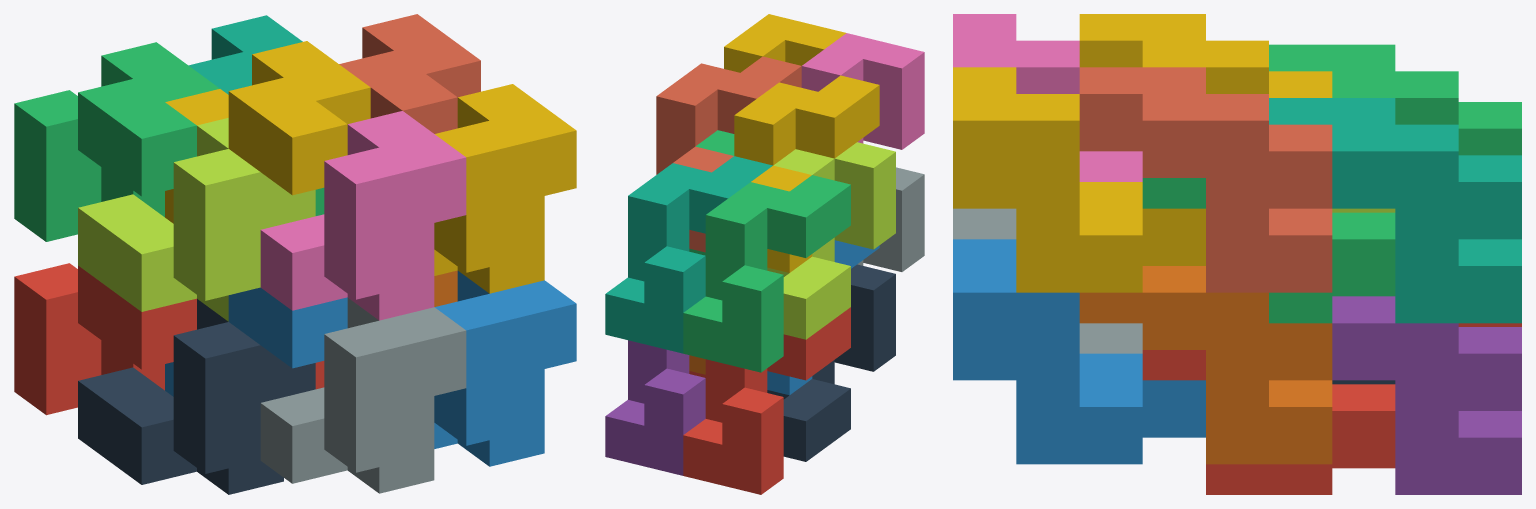
The model's file is tiling.obj.
The picture shows the model from 3 angles, left to right: view 1: azimuth 30°, elevation 25°; view 2: azimuth 150°, elevation 25°; view 3: azimuth 270°, elevation 25°; orthographic projection. The views are drawn at different scales.
Visible parts, largest first — view 1: copy_2_domain_4, copy_2_domain_2, copy_2_domain_1, copy_1_domain_3, copy_2_domain_3, copy_2_domain_8, copy_2_domain_6, copy_1_domain_1, copy_1_domain_4, copy_1_domain_8, copy_1_domain_2, copy_1_domain_7 (+1 smaller); view 2: copy_1_domain_3, copy_1_domain_7, copy_1_domain_1, copy_2_domain_3, copy_1_domain_4, copy_2_domain_1, copy_1_domain_5, copy_1_domain_8, copy_2_domain_4, copy_2_domain_8, copy_2_domain_2, copy_1_domain_2 (+1 smaller); view 3: copy_1_domain_8, copy_2_domain_8, copy_1_domain_7, copy_2_domain_6, copy_1_domain_6, copy_1_domain_5, copy_1_domain_3, copy_1_domain_4, copy_2_domain_5, copy_2_domain_7, copy_2_domain_4, copy_2_domain_2.
Part boxes in pixels (box(x1,y1,x2,y2)): copy_2_domain_4: box(260, 111, 466, 320); copy_2_domain_2: box(260, 298, 466, 493); copy_2_domain_1: box(78, 299, 315, 494); copy_1_domain_3: box(14, 42, 219, 241); copy_2_domain_3: box(78, 118, 315, 321); copy_2_domain_8: box(434, 84, 576, 293); copy_2_domain_6: box(434, 270, 576, 466); copy_1_domain_1: box(14, 263, 196, 415); copy_1_domain_4: box(165, 41, 370, 223); copy_1_domain_8: box(339, 14, 480, 133); copy_1_domain_2: box(165, 287, 347, 396); copy_1_domain_7: box(188, 15, 302, 94); copy_1_domain_3: box(683, 175, 850, 372); copy_1_domain_7: box(605, 156, 772, 353); copy_1_domain_1: box(683, 307, 850, 494); copy_2_domain_3: box(767, 142, 895, 339); copy_1_domain_4: box(734, 75, 879, 272); copy_2_domain_1: box(767, 264, 895, 461); copy_1_domain_5: box(605, 340, 705, 475); copy_1_domain_8: box(656, 56, 801, 252); copy_2_domain_4: box(801, 33, 924, 149); copy_2_domain_8: box(724, 14, 846, 72); copy_2_domain_2: box(857, 167, 924, 271); copy_1_domain_2: box(767, 240, 879, 395); copy_1_domain_8: box(1079, 67, 1332, 292); copy_2_domain_8: box(953, 67, 1205, 292); copy_1_domain_7: box(1269, 98, 1521, 323); copy_2_domain_6: box(953, 239, 1205, 464); copy_1_domain_6: box(1079, 266, 1332, 464); copy_1_domain_5: box(1332, 296, 1521, 494); copy_1_domain_3: box(1269, 44, 1521, 155); copy_1_domain_4: box(1079, 14, 1332, 97); copy_2_domain_5: box(1142, 350, 1395, 494); copy_2_domain_7: box(1142, 178, 1395, 323); copy_2_domain_4: box(953, 14, 1142, 181); copy_2_domain_2: box(953, 208, 1142, 353).
Size of the model in its own units: 5 by 7 by 9.
